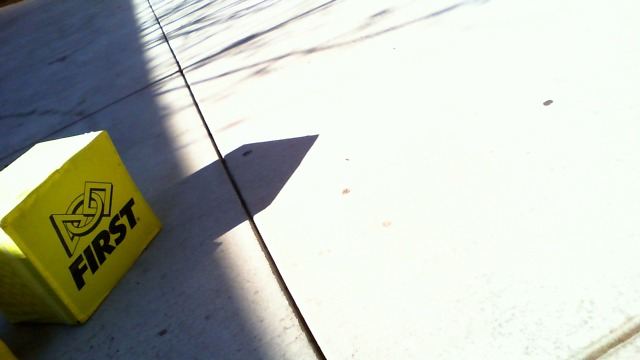cube: (1, 130, 166, 328)
